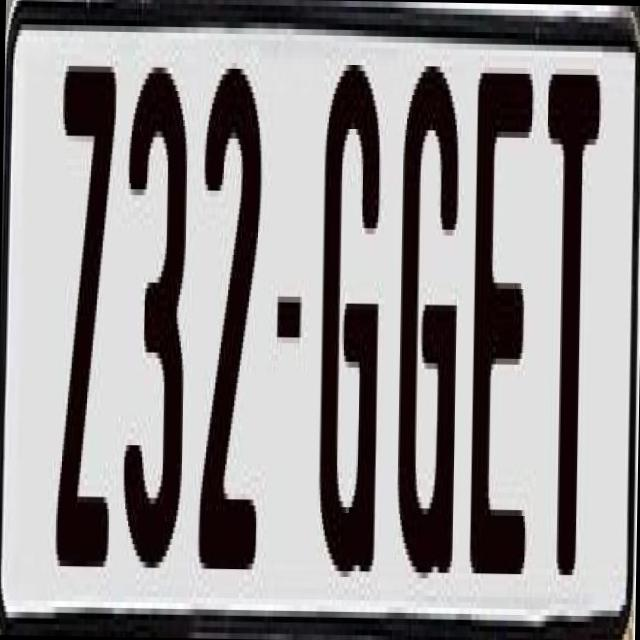2: (197, 51, 272, 570)
3: (120, 66, 192, 603)
E: (469, 60, 539, 562)
G: (317, 52, 385, 577), (392, 60, 460, 572)
T: (534, 62, 600, 599)
Z: (55, 54, 118, 572)
